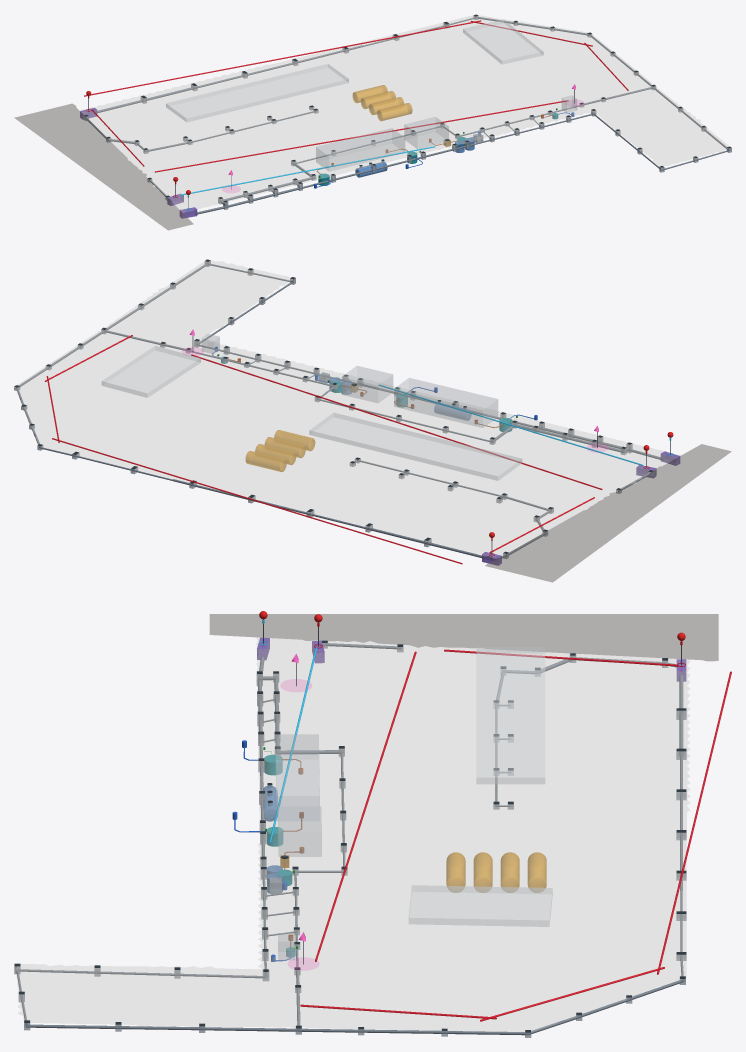
3 views of the same model, one above another, from view 1: azimuth 30°, elevation 25°; view 2: azimuth 150°, elevation 25°; view 3: azimuth 270°, elevation 25° (orthographic). The views are drawn at different scales.
Visible parts, largest first — view 1: Forecourt and paving (taken as flat), Highway side, Pump canopy (building C), Building A (toilets), Second canopy (dashed outline on the as-built sheet), G2.1 water route (final design) (×2), Building B, G2.2 water route (final design), Site drain: kerb line round the parking and buildings A and , Fuel tank 4 · 30,000 L, Site drain: north side, Ø0.40 m, Site drain: front strip, along the south boundary, Ø0.40 m; view 2: Forecourt and paving (taken as flat), Highway side, Pump canopy (building C), Building A (toilets), Second canopy (dashed outline on the as-built sheet), G2.1 water route (final design) (×2), Building B, Site drain: kerb line round the parking and buildings A and , Fuel tank 1 · 30,000 L, G2.2 water route (final design); view 3: Forecourt and paving (taken as flat), Highway side, Pump canopy (building C), Second canopy (dashed outline on the as-built sheet), Building A (toilets), Building B, Site drain: east side, Ø0.40 m (×2), G2.1 water route (final design) (×2), Site drain: west side of the south-east plot, Ø0.30 m, Fuel tank 1 · 30,000 L, Fuel tank 2 · 30,000 L, Fuel tank 4 · 30,000 L (+2 smaller).
Part boxes in pixels (x1,y1,x2,y2): Forecourt and paving (taken as flat): (80, 15, 729, 212); Highway side: (14, 103, 193, 230); Pump canopy (building C): (166, 64, 348, 122); Building A (toilets): (316, 128, 404, 171); Second canopy (dashed outline on the as-built sheet): (463, 19, 543, 64); G2.1 water route (final design) (×2): (84, 20, 568, 172); Building B: (404, 117, 448, 148); G2.2 water route (final design): (180, 146, 435, 195); Site drain: kerb line round the parking and buildings A and : (296, 105, 581, 163); Fuel tank 4 · 30,000 L: (377, 103, 412, 121); Site drain: north side, Ø0.40 m: (195, 45, 362, 88); Site drain: front strip, along the south boundary, Ø0.40 m: (301, 148, 455, 188); Forecourt and paving (taken as flat): (15, 260, 681, 558); Highway side: (485, 444, 731, 582); Pump canopy (building C): (309, 413, 522, 480); Building A (toilets): (394, 378, 497, 427); Second canopy (dashed outline on the as-built sheet): (101, 346, 200, 397); G2.1 water route (final design) (×2): (52, 354, 602, 564); Building B: (342, 366, 392, 402); Site drain: kerb line round the parking and buildings A and : (189, 350, 490, 441); Fuel tank 1 · 30,000 L: (245, 451, 286, 471); G2.2 water route (final design): (378, 384, 643, 465); Forecourt and paving (taken as flat): (15, 637, 689, 1031); Highway side: (209, 614, 718, 661); Pump canopy (building C): (476, 647, 545, 784); Second canopy (dashed outline on the as-built sheet): (408, 885, 552, 926); Building A (toilets): (275, 734, 319, 820); Building B: (278, 806, 321, 856); Site drain: east side, Ø0.40 m (×2): (25, 1024, 527, 1035); G2.1 water route (final design) (×2): (315, 651, 731, 974); Site drain: west side of the south-east plot, Ø0.30 m: (18, 969, 266, 978); Fuel tank 1 · 30,000 L: (527, 852, 546, 892); Fuel tank 2 · 30,000 L: (500, 852, 519, 892); Fuel tank 4 · 30,000 L: (446, 852, 465, 892).
Size of the model in its own units: 124 by 9.88 by 89.6.
